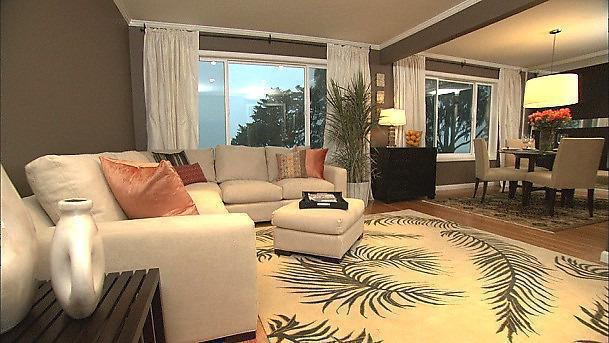Matera: (324, 72, 379, 208)
Ventana: (198, 58, 325, 146), (424, 74, 500, 161), (499, 138, 554, 172)
